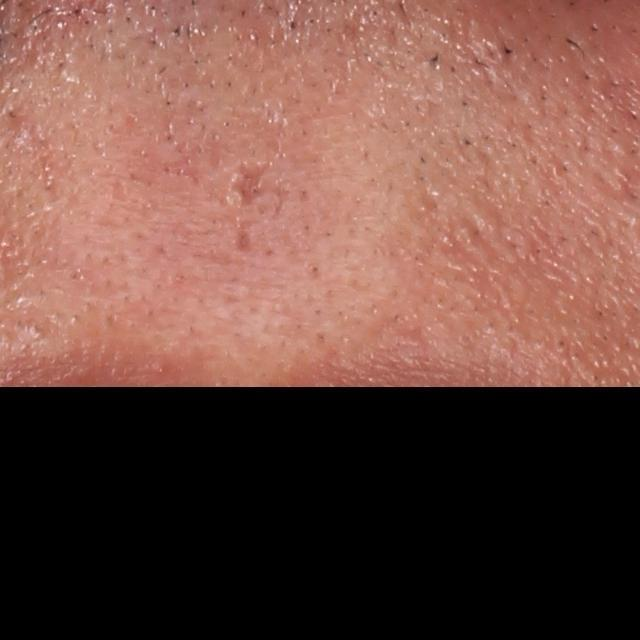atrophic_scar: (224, 145, 290, 223), (228, 224, 257, 255)
